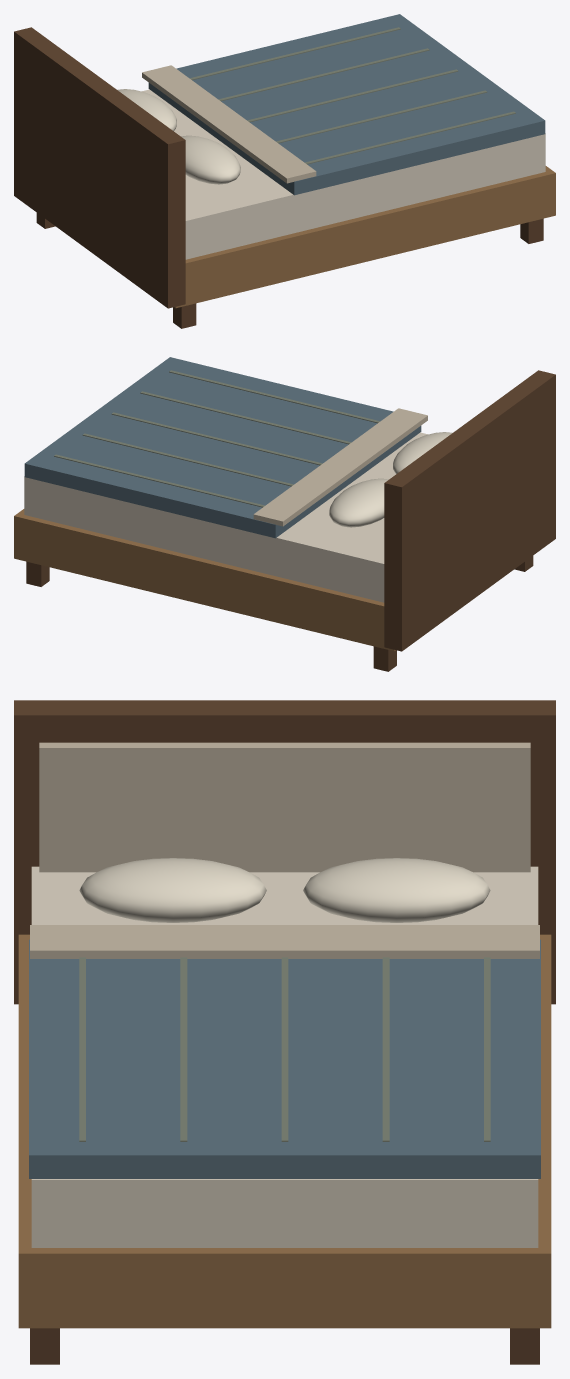
3 views of the same model, one above another, from view 1: azimuth 30°, elevation 25°; view 2: azimuth 150°, elevation 25°; view 3: azimuth 270°, elevation 25° (orthographic). The views are drawn at different scales.
Bounding box in the file's own units: 2.11 × 0.995 × 1.45.
